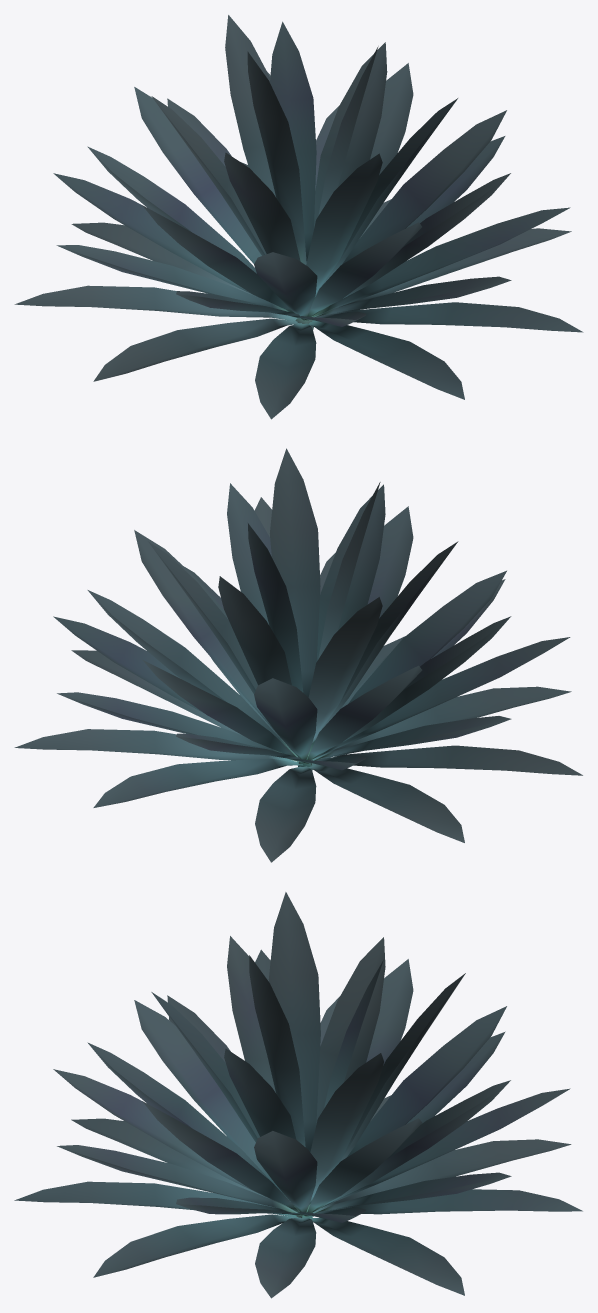
File: plants-cacti-succulents-spiky-rosette_v3.fbx
3 views of the same model, one above another, from view 1: azimuth 30°, elevation 25°; view 2: azimuth 150°, elevation 25°; view 3: azimuth 270°, elevation 25° (orthographic).
Visible parts, largest first — view 1: Spiky Rosette_v3; view 2: Spiky Rosette_v3; view 3: Spiky Rosette_v3.
Part boxes in pixels (<box>): Spiky Rosette_v3: <box>14,15,583,419</box>; Spiky Rosette_v3: <box>14,448,582,862</box>; Spiky Rosette_v3: <box>14,892,582,1298</box>.
Bounding box in the file's own units: 0.6 × 0.3802 × 0.5971.
